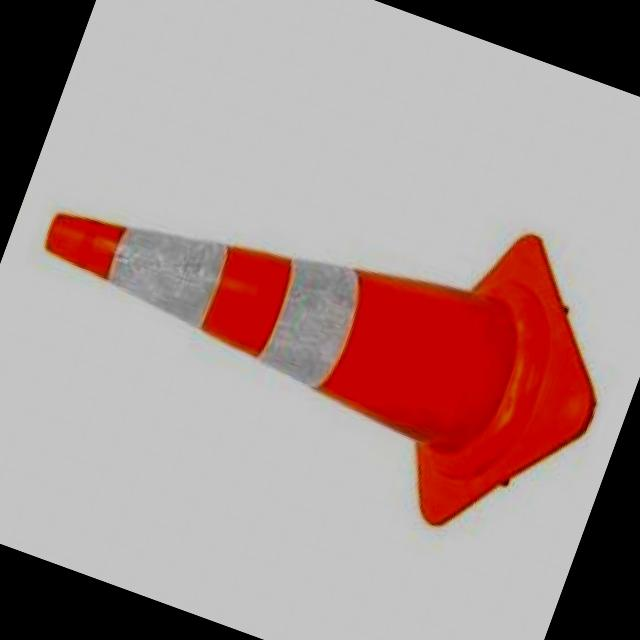cone: (4, 82, 640, 555)
